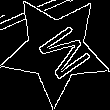M_SW: (23, 16, 88, 83)
